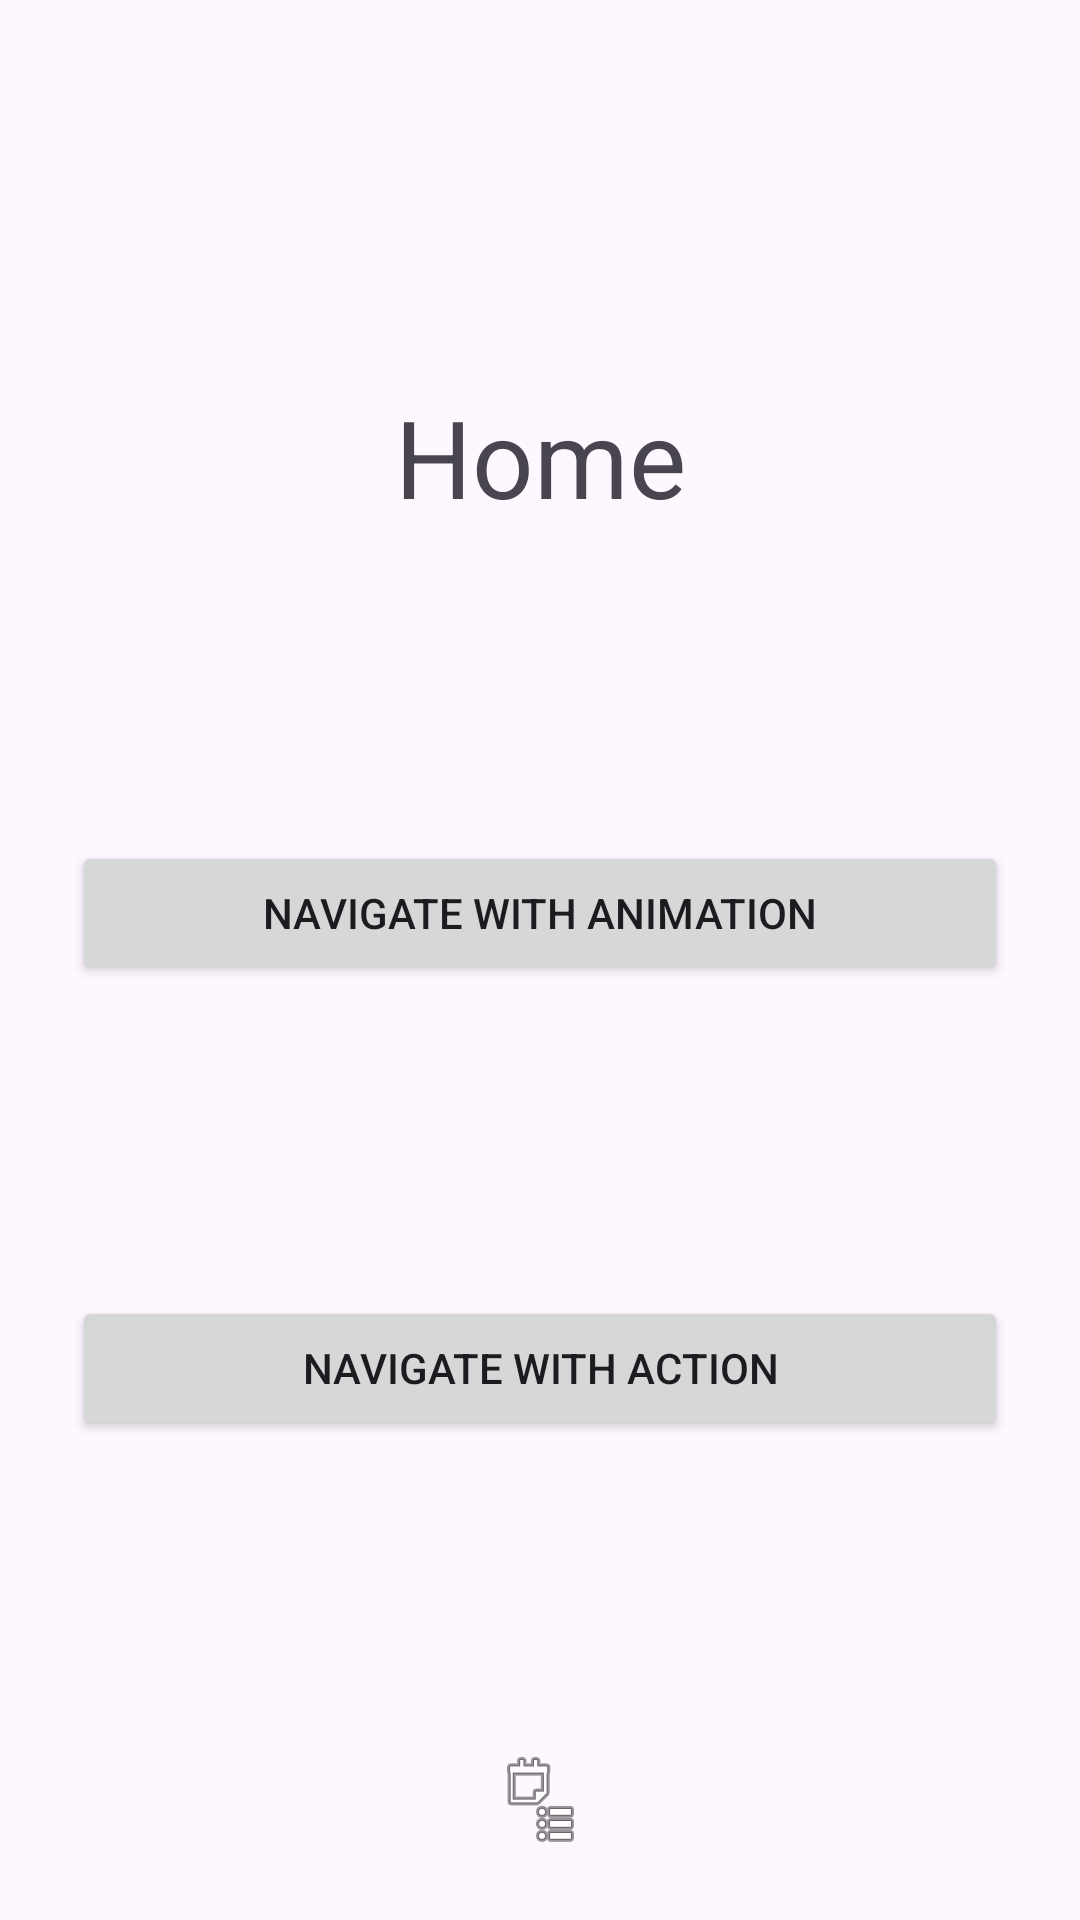

Named icons in this screenshot (1080w x 1920h) and their centers, (x=x, y=y):
agenda: (x=540, y=1799)
